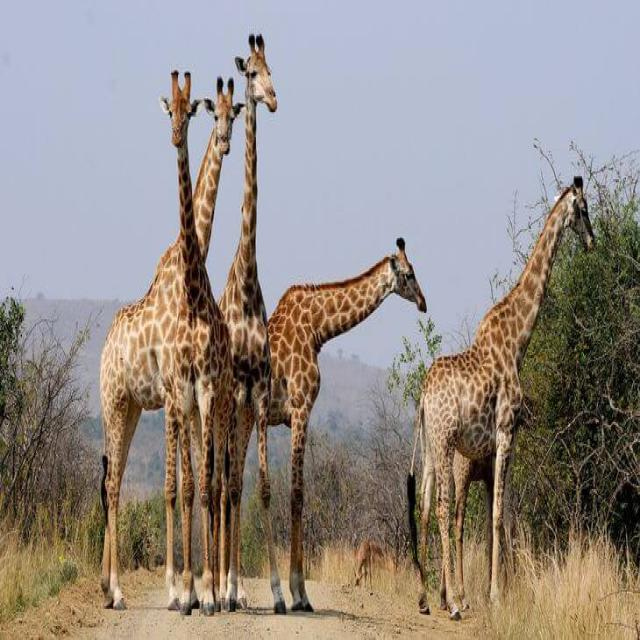Herbivorous: (413, 182, 593, 618), (266, 240, 427, 614), (158, 70, 239, 610), (219, 36, 284, 612), (99, 244, 183, 610), (193, 76, 243, 263)
